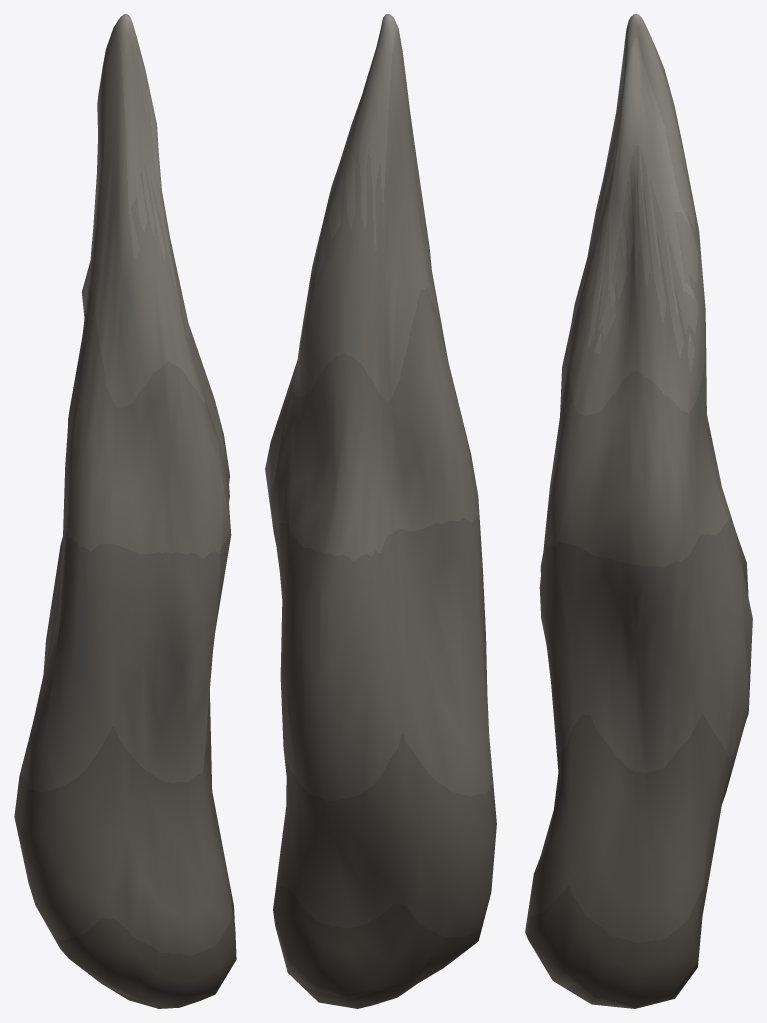
Rendered from DL_Obj_Level5_MineStalagmite1.fbx.
The picture shows the model from 3 angles, left to right: view 1: azimuth 30°, elevation 25°; view 2: azimuth 150°, elevation 25°; view 3: azimuth 270°, elevation 25°; orthographic projection. The views are drawn at different scales.
Visible parts, largest first — view 1: Level5_MineStalagmite01; view 2: Level5_MineStalagmite01; view 3: Level5_MineStalagmite01.
Part boxes in pixels (x1,y1,x2,y2): Level5_MineStalagmite01: [14, 14, 236, 1008]; Level5_MineStalagmite01: [265, 14, 496, 1008]; Level5_MineStalagmite01: [525, 14, 752, 1008].
Size of the model in its own units: 129 by 587 by 125.
